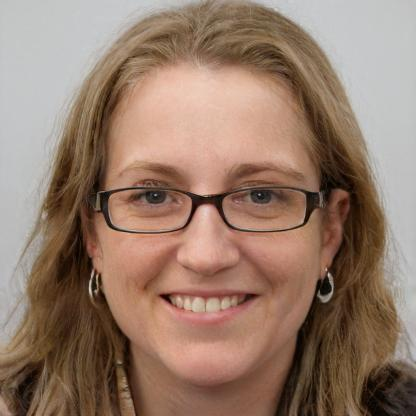glasses: (90, 178, 325, 234)
